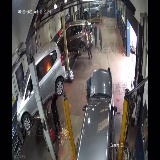fire: (44, 59, 52, 72)
